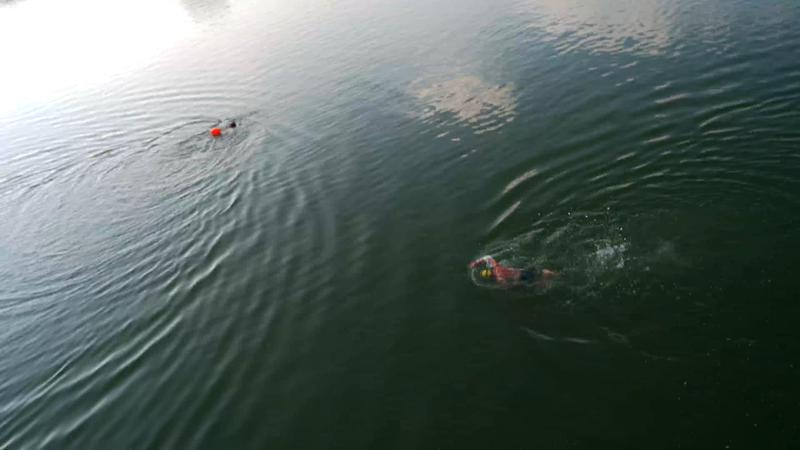swimmers: (470, 254, 560, 291)
